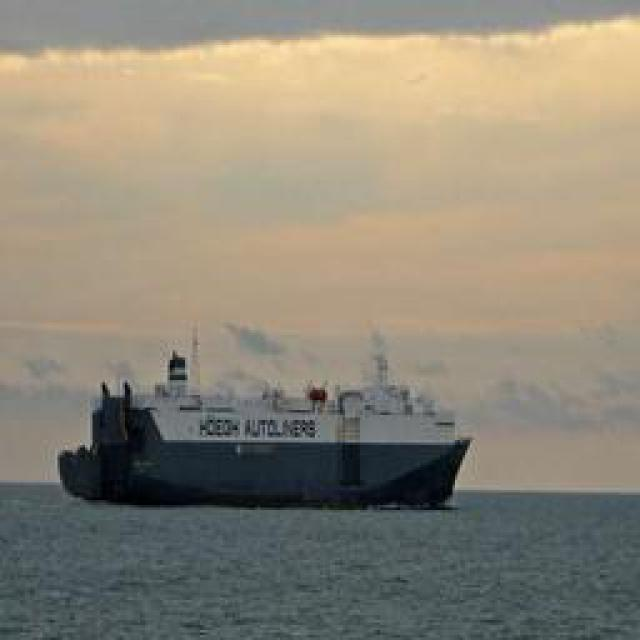Ship: (59, 325, 474, 508)
